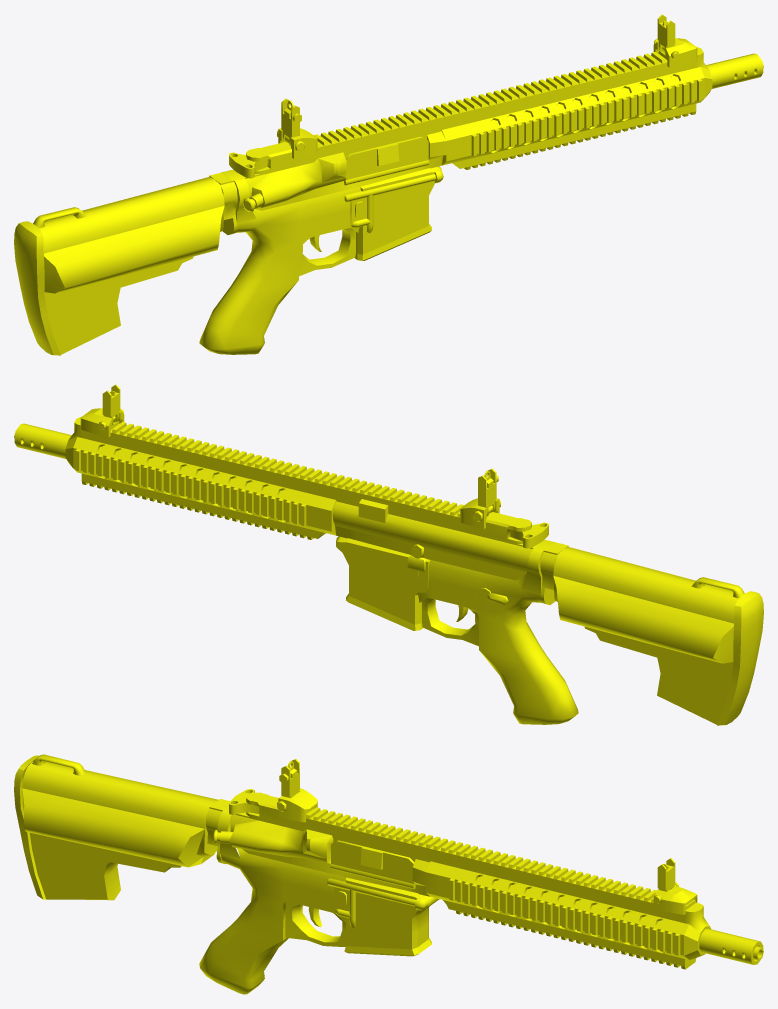
File: Rifle_01.glb
3 renders of one model, top to bottom at view 1: azimuth 30°, elevation 25°; view 2: azimuth 150°, elevation 25°; view 3: azimuth 330°, elevation 25°, orthographic.
Visible parts, largest first — view 1: Main_Mesh, Sights_Mesh, EjectionCover_Mesh, ChargeHandle_Mesh; view 2: Main_Mesh, Sights_Mesh, ChargeHandle_Mesh; view 3: Main_Mesh, Sights_Mesh, EjectionCover_Mesh, ChargeHandle_Mesh.
Part boxes in pixels (x1,y1,x2,y2): Main_Mesh: (14,46,763,355); Sights_Mesh: (277,14,697,158); EjectionCover_Mesh: (344,136,429,185); ChargeHandle_Mesh: (229,152,267,178); Main_Mesh: (14,416,763,725); Sights_Mesh: (80,384,500,528); ChargeHandle_Mesh: (510,522,548,548); Main_Mesh: (14,754,763,994); Sights_Mesh: (277,759,697,914); EjectionCover_Mesh: (330,840,415,888); ChargeHandle_Mesh: (229,789,259,814).
Bounding box in the file's own units: 0.8298 × 0.2555 × 0.0796.
Materials: 1 (1 with a texture image).
